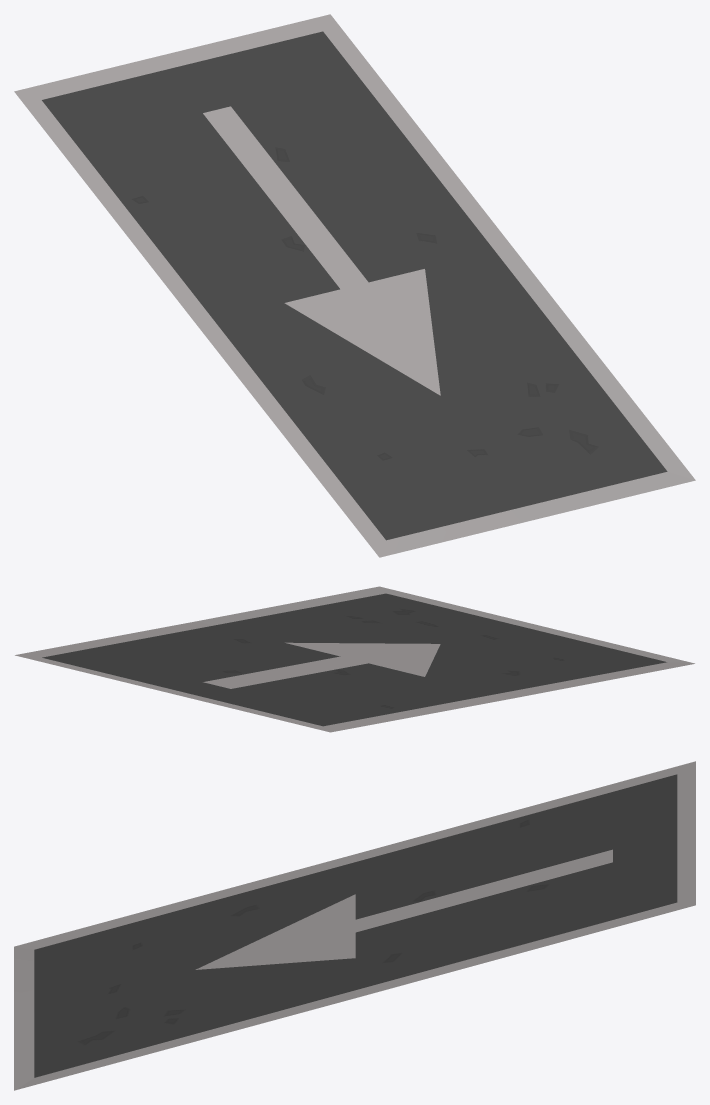
File: SM_Gen_Env_Road_Ramp_01.fbx
3 views of the same model, one above another, from view 1: azimuth 30°, elevation 25°; view 2: azimuth 150°, elevation 25°; view 3: azimuth 270°, elevation 25° (orthographic). The views are drawn at different scales.
Parts seen in each view (by area): view 1: SM_Gen_Env_Road_Ramp_01; view 2: SM_Gen_Env_Road_Ramp_01; view 3: SM_Gen_Env_Road_Ramp_01.
Part boxes in pixels (x1=…): SM_Gen_Env_Road_Ramp_01: x1=14, y1=14, x2=695, y2=557; SM_Gen_Env_Road_Ramp_01: x1=15, y1=586, x2=694, y2=732; SM_Gen_Env_Road_Ramp_01: x1=14, y1=761, x2=695, y2=1090.
Bounding box in the file's own units: 500 × 300 × 1000.
